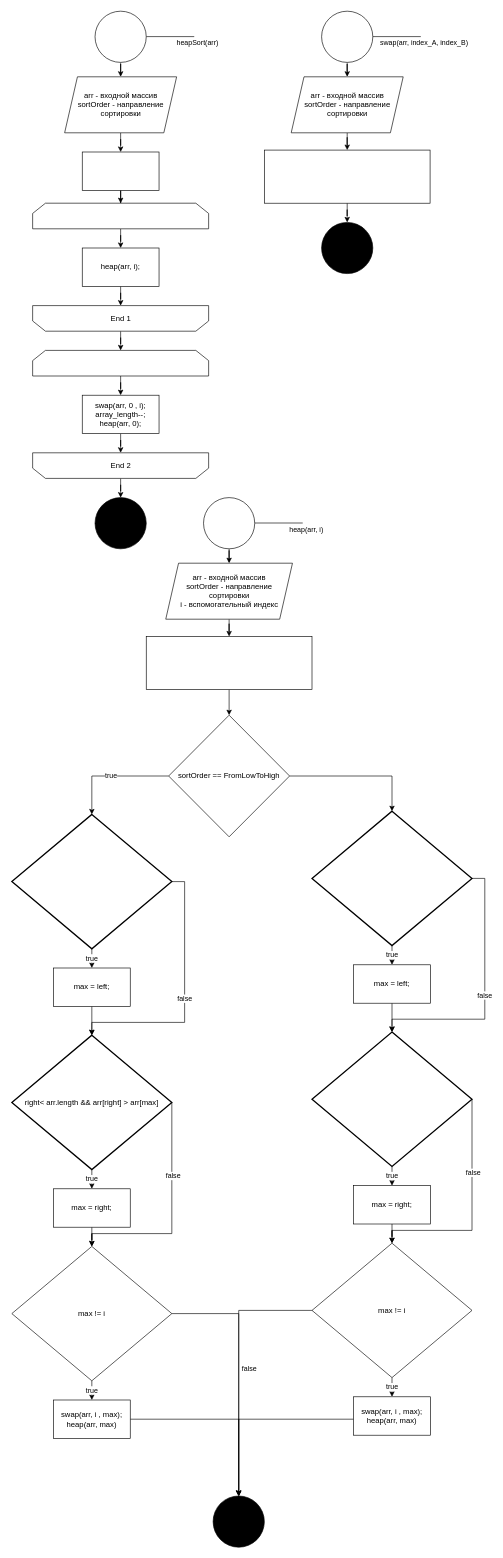
The diagram is 503 pixels wide and 1558 high, and some of its shapes have lost their labels. Here are the shapes that lost their labels. From the top down, the centre of each, then its label:
At point (120, 170): "var array_length = arr.length".
At point (347, 176): "var temp = arr[index_A]; arr[index_A] = arr[andex_B]; arr[index_B] = temp;".
At point (120, 216): "1: var i = Math.floor(array_langth / 2); i >= 0; i -= 1".
At point (120, 363): "2: var i = arr.length - 1; i > 0; i--".
At point (229, 663): "var left = 2* i + 1; var right = 2 * i + 2; var max = i;".
At point (91, 881): "left < arr.length && arr[left] > arr[max]".
At point (391, 878): "left < arr.length && arr[left] < arr[max]".
At point (391, 1099): "right< arr.length && arr[right] < arr[max]".
